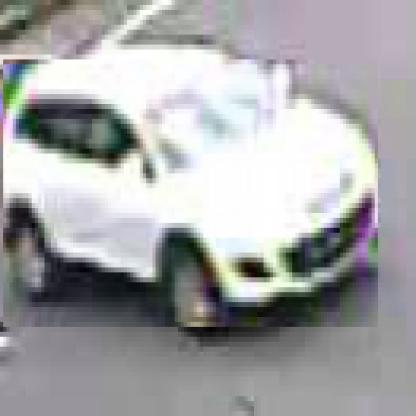car: (4, 60, 382, 333)
